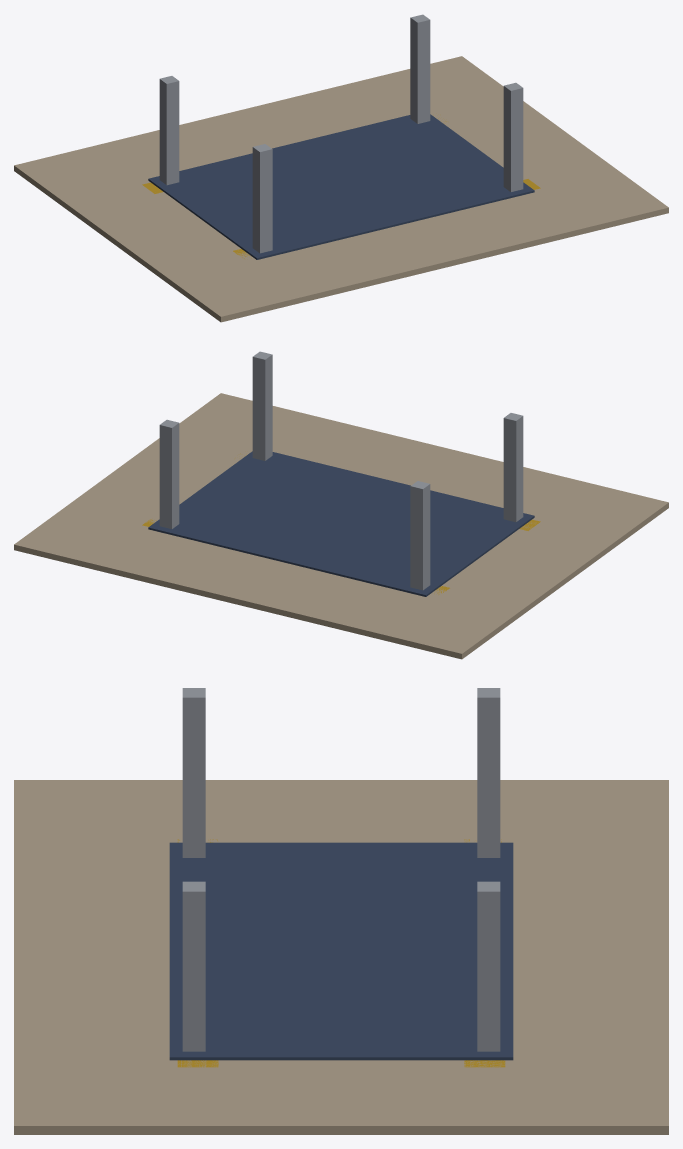
Rendered from stage_03_structural_frame.glb.
3 views of the same model, one above another, from view 1: azimuth 30°, elevation 25°; view 2: azimuth 150°, elevation 25°; view 3: azimuth 270°, elevation 25° (orthographic). The views are drawn at different scales.
Parts seen in each view (by area): view 1: world; view 2: world; view 3: world.
Part boxes in pixels (x1=…): world: x1=14, y1=14, x2=668, y2=322; world: x1=14, y1=351, x2=668, y2=659; world: x1=14, y1=688, x2=668, y2=1134.
Size of the model in its own units: 10 by 3 by 8.
